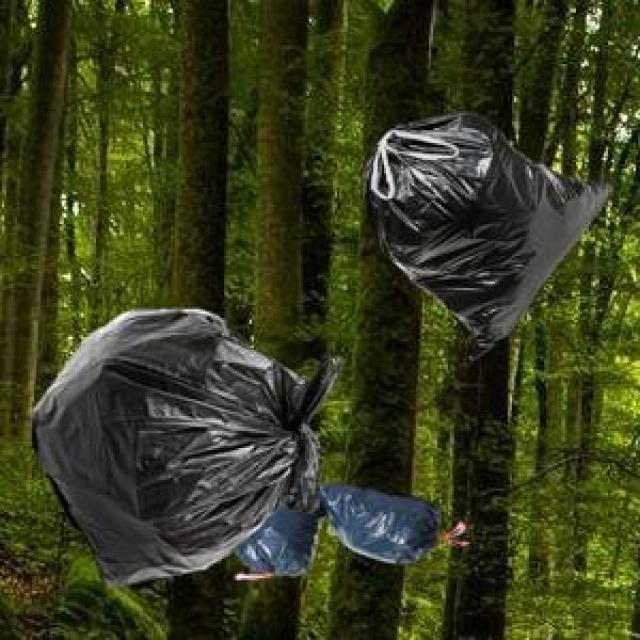Trashbag: (29, 303, 252, 595), (364, 109, 617, 366), (320, 484, 447, 565), (232, 491, 326, 579)
